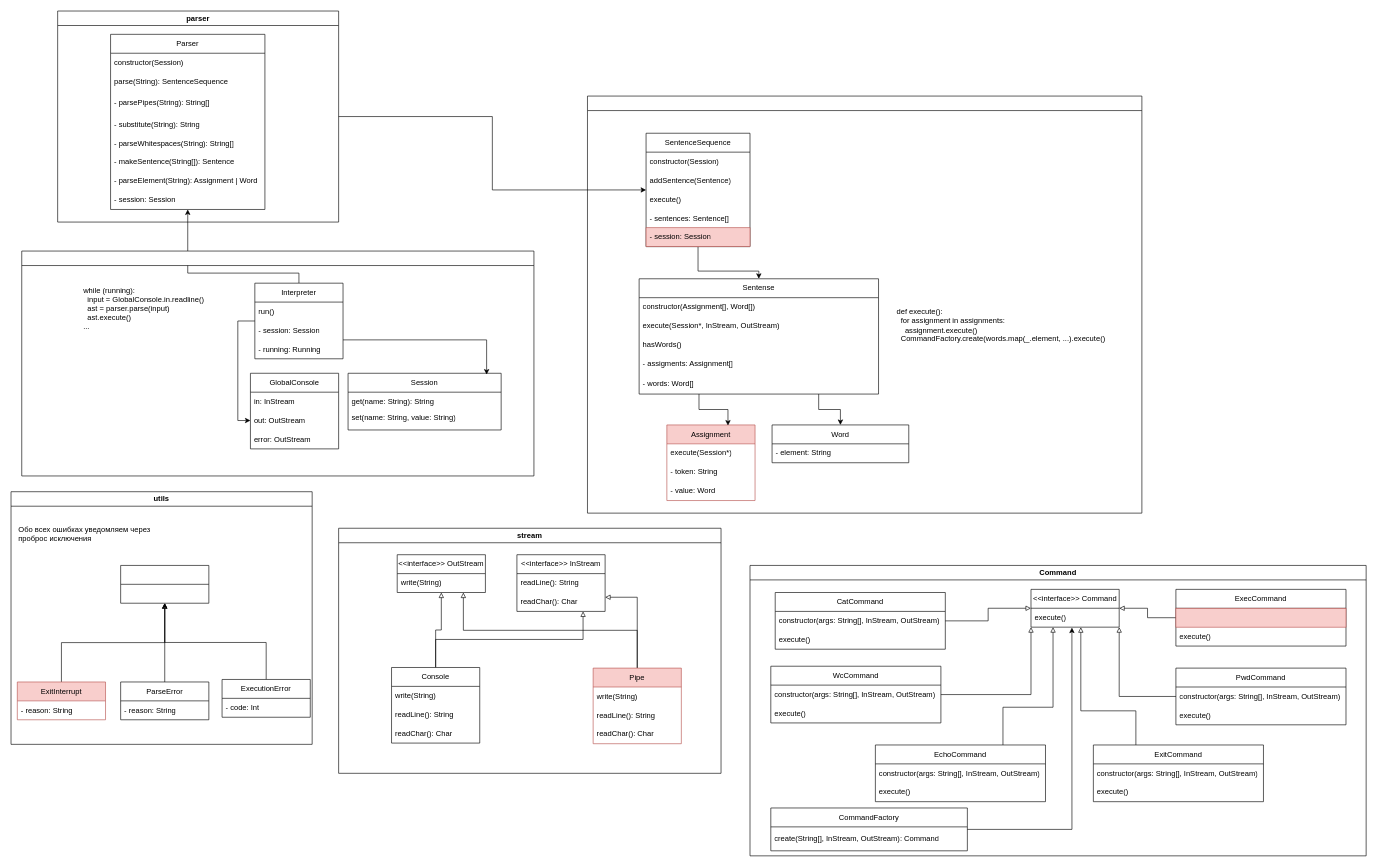
This 1377x867 diagram has some shape labels left out. The centre of each missing label's shape, as x and y in pixels:
CLIError: the point at 164,584
constructor(args: String[], InStream, OutStream, Session): the point at 1260,617
i nterpreter: the point at 277,363
sentence: the point at 864,304
